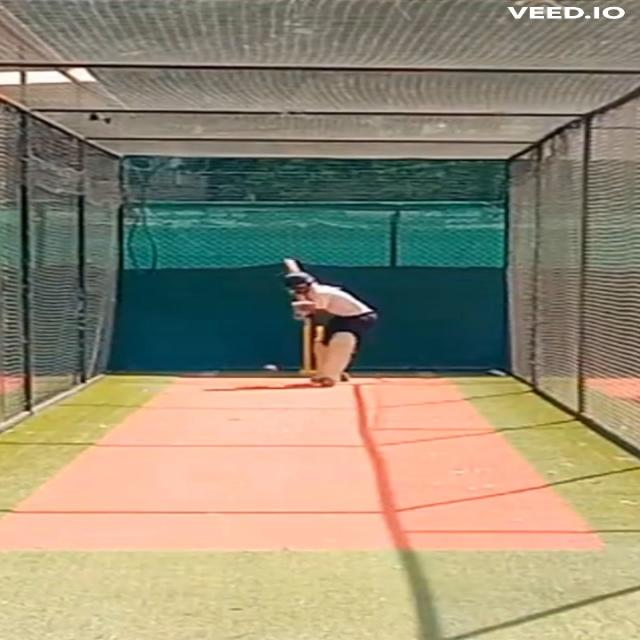ball: (262, 364, 279, 373)
stump: (300, 316, 323, 376)
